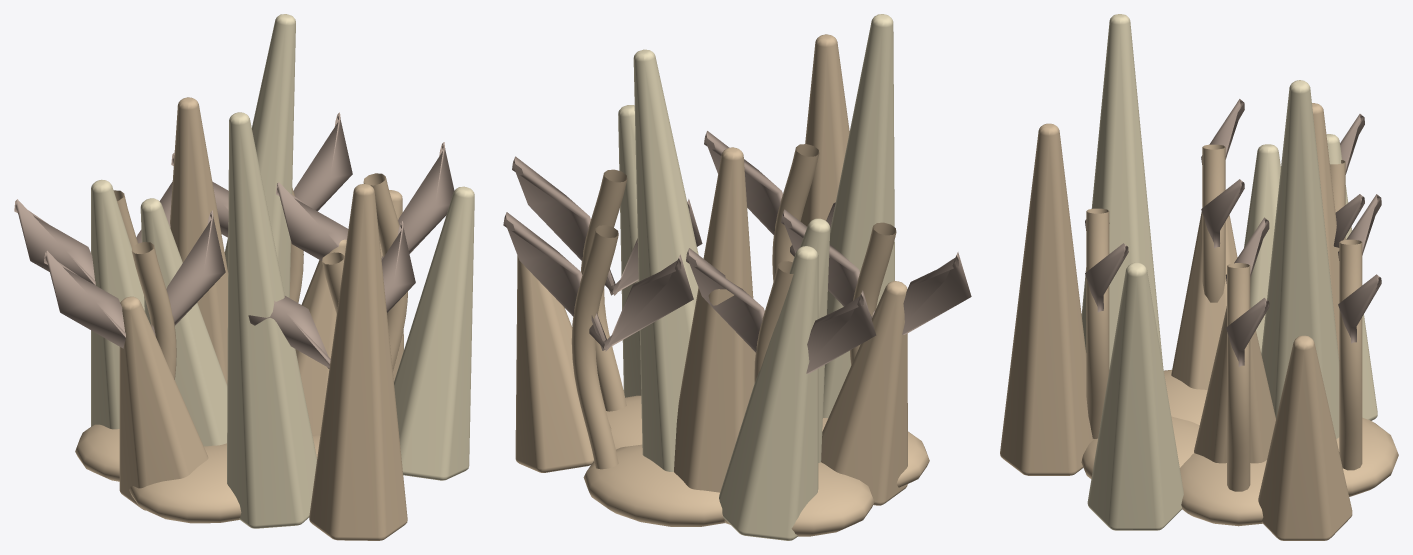
Rendered from bio_crystal_fan_07_near.glb.
3 views of the same model, side by side, from view 1: azimuth 30°, elevation 25°; view 2: azimuth 150°, elevation 25°; view 3: azimuth 270°, elevation 25° (orthographic). The views are drawn at different scales.
Visible parts, largest first — view 1: Reflecting mineral prism.007, Reflecting mineral prism.002, Reflecting mineral prism.005, Reflecting mineral prism.004, Reflecting mineral prism.003, Reflecting mineral prism.006, Reflecting mineral prism.009, Mineral substrate, Reflecting mineral prism.001, Secondary fan lobe.008, Secondary fan lobe, Secondary fan lobe.004 (+7 smaller); view 2: Reflecting mineral prism.001, Reflecting mineral prism.006, Reflecting mineral prism.003, Mineral substrate, Reflecting mineral prism.004, Reflecting mineral prism.007, Reflecting mineral prism.008, Secondary fan lobe.006, Secondary fan lobe.002, Branching support.003, Reflecting mineral prism.002, Secondary fan lobe.008 (+8 smaller); view 3: Reflecting mineral prism.002, Reflecting mineral prism.005, Reflecting mineral prism.003, Reflecting mineral prism.008, Reflecting mineral prism.007, Mineral substrate, Reflecting mineral prism, Reflecting mineral prism.004, Branching support.003, Branching support, Branching support.002, Reflecting mineral prism.009 (+9 smaller).
Boxes of the visible parts, x1,y1,x2,y2 form: Reflecting mineral prism.007: (227,112,316,528); Reflecting mineral prism.002: (309,184,407,540); Reflecting mineral prism.005: (394,186,474,480); Reflecting mineral prism.004: (119,296,208,510); Reflecting mineral prism.003: (224,14,295,297); Reflecting mineral prism.006: (170,97,228,384); Reflecting mineral prism.009: (140,198,227,446); Mineral substrate: (75,424,320,523); Reflecting mineral prism.001: (91,179,144,429); Secondary fan lobe.008: (44,210,225,348); Secondary fan lobe: (276,142,454,260); Secondary fan lobe.004: (248,221,415,368); Reflecting mineral prism.001: (719,246,818,540); Reflecting mineral prism.006: (674,147,755,492); Reflecting mineral prism.003: (633,49,698,471); Mineral substrate: (583,395,929,536); Reflecting mineral prism.004: (821,281,907,505); Reflecting mineral prism.007: (823,14,894,417); Reflecting mineral prism.008: (515,255,611,472); Secondary fan lobe.006: (503,212,693,351); Secondary fan lobe.002: (686,248,876,373); Branching support.003: (571,225,618,469); Reflecting mineral prism.002: (800,34,849,226); Secondary fan lobe.008: (781,209,971,334); Reflecting mineral prism.002: (1000,123,1093,475); Reflecting mineral prism.005: (1087,262,1183,530); Reflecting mineral prism.003: (1261,80,1339,438); Reflecting mineral prism.008: (1258,335,1352,540); Reflecting mineral prism.007: (1081,14,1163,368); Mineral substrate: (1081,369,1398,526); Reflecting mineral prism: (1194,306,1275,463); Reflecting mineral prism.004: (1171,211,1237,389); Branching support.003: (1339,239,1362,470); Branching support: (1227,263,1250,491); Branching support.002: (1086,208,1109,438); Reflecting mineral prism.009: (1244,144,1280,352).
Bounding box in the file's own units: 1.85 × 1.79 × 1.55.
